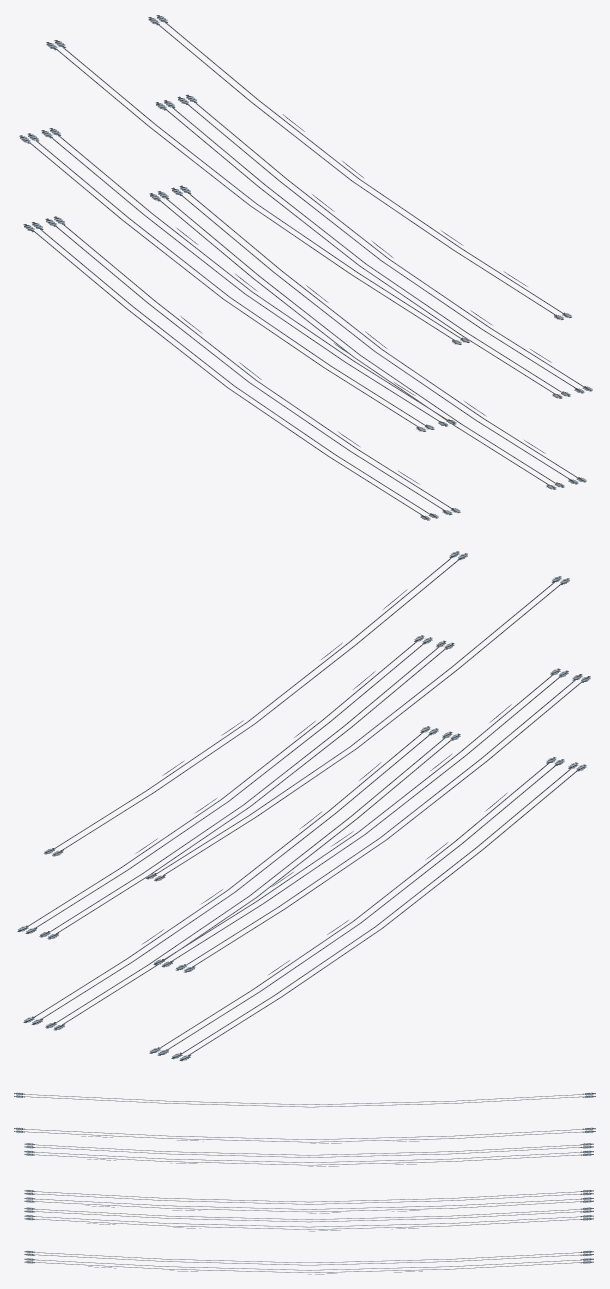
The model's file is HighVoltTower_lines.fbx.
3 views of the same model, one above another, from view 1: azimuth 30°, elevation 25°; view 2: azimuth 150°, elevation 25°; view 3: azimuth 270°, elevation 25° (orthographic). The views are drawn at different scales.
Visible parts, largest first — view 1: PowerLines; view 2: PowerLines; view 3: PowerLines.
Part boxes in pixels (box(x1,y1,x2,y2)): PowerLines: box(19, 15, 592, 520); PowerLines: box(17, 551, 590, 1061); PowerLines: box(14, 1092, 595, 1274).
Bounding box in the file's own units: 460 × 473 × 1860.
